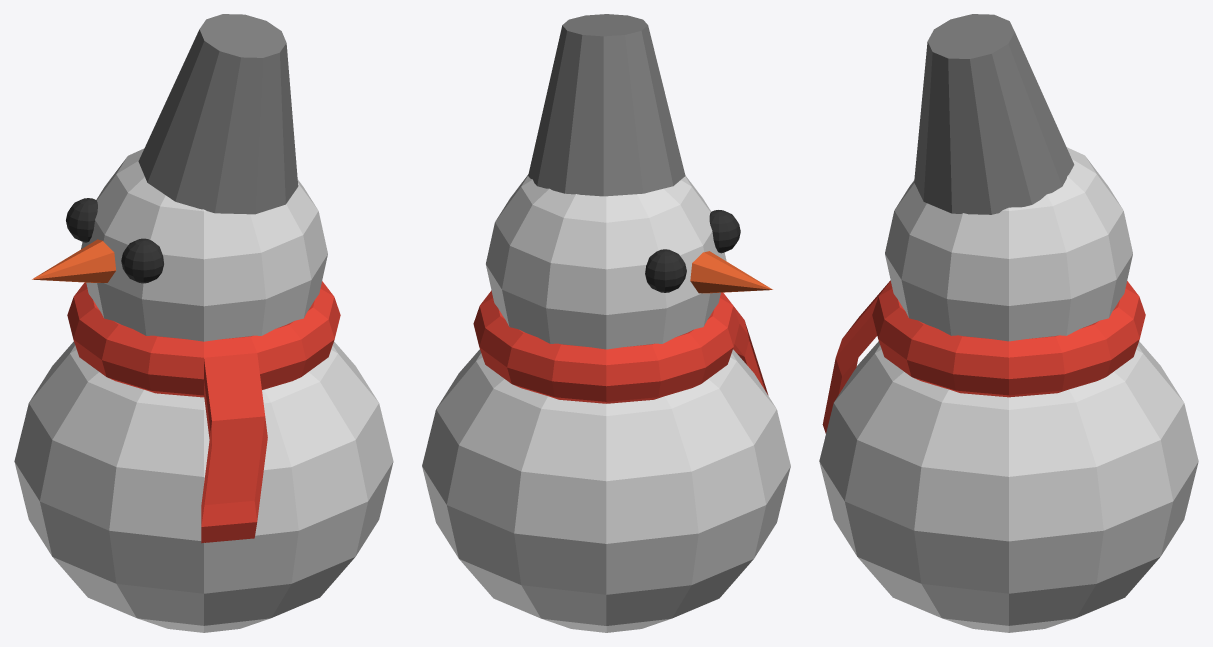
Rendered from Snowman.fbx.
3 views of the same model, side by side, from view 1: azimuth 30°, elevation 25°; view 2: azimuth 150°, elevation 25°; view 3: azimuth 270°, elevation 25° (orthographic). The views are drawn at different scales.
Visible parts, largest first — view 1: Sphere, Sphere.001, Torus, Cylinder, Cone, Sphere.003, Sphere.002; view 2: Sphere, Sphere.001, Cylinder, Torus, Cone, Sphere.002, Sphere.003; view 3: Sphere, Sphere.001, Cylinder, Torus.
Part boxes in pixels (left/top/right/bottom): Sphere: left=14, top=341, right=393, bottom=632; Sphere.001: left=81, top=148, right=327, bottom=341; Torus: left=67, top=281, right=340, bottom=543; Cylinder: left=138, top=14, right=298, bottom=214; Cone: left=32, top=239, right=116, bottom=282; Sphere.003: left=121, top=238, right=163, bottom=283; Sphere.002: left=66, top=198, right=97, bottom=242; Sphere: left=422, top=349, right=790, bottom=632; Sphere.001: left=486, top=174, right=726, bottom=349; Cylinder: left=528, top=14, right=685, bottom=196; Torus: left=473, top=290, right=768, bottom=403; Cone: left=690, top=251, right=772, bottom=293; Sphere.002: left=645, top=249, right=686, bottom=292; Sphere.003: left=709, top=210, right=740, bottom=253; Sphere: left=819, top=341, right=1198, bottom=632; Sphere.001: left=885, top=147, right=1132, bottom=341; Cylinder: left=914, top=14, right=1074, bottom=214; Torus: left=822, top=280, right=1145, bottom=433.
Size of the model in its own units: 205 by 346 by 200.
